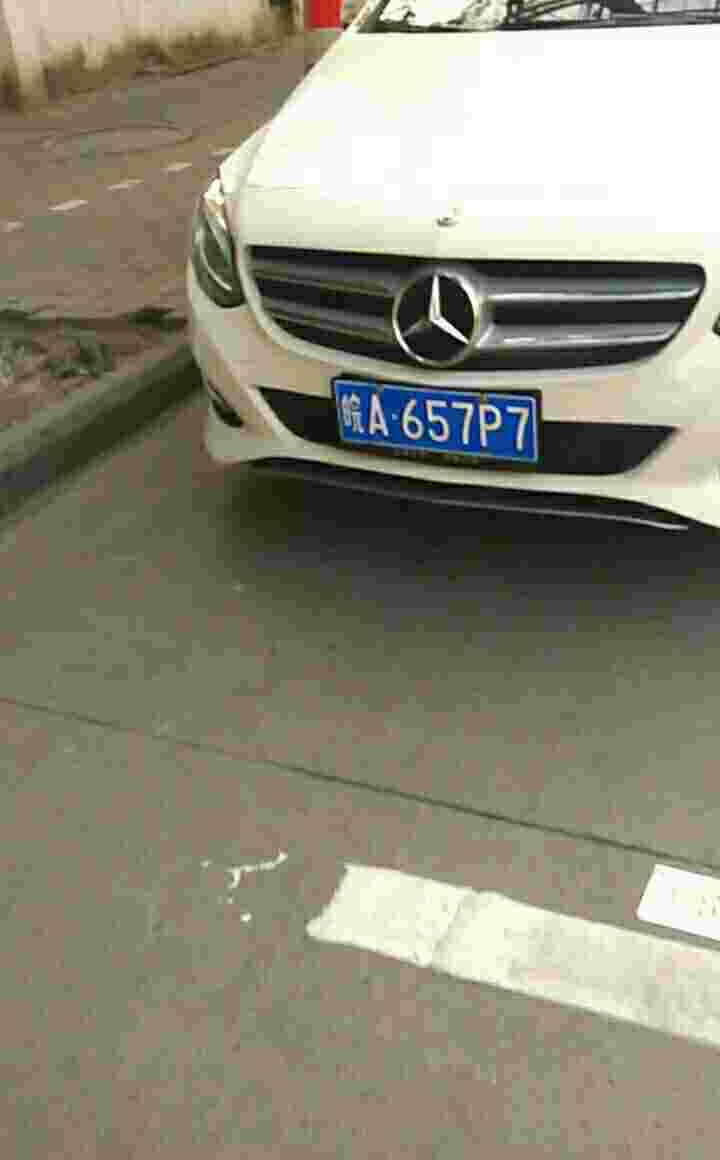plate: (332, 377, 542, 464)
